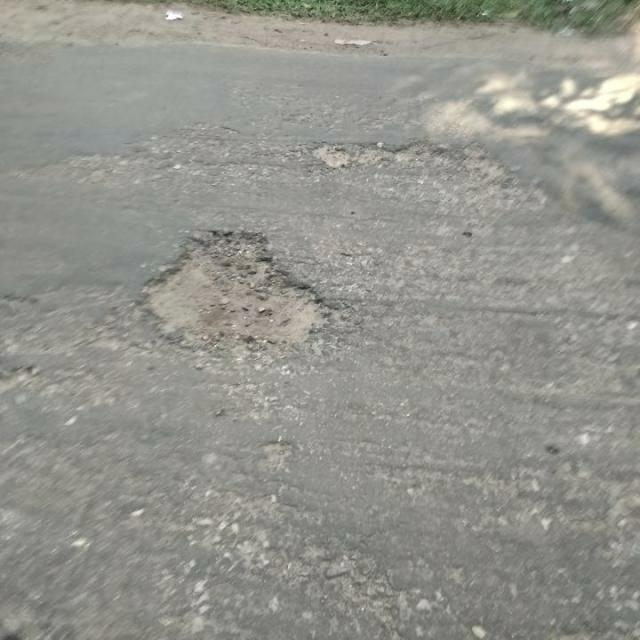Pothole: (140, 226, 347, 358), (304, 138, 458, 169)
